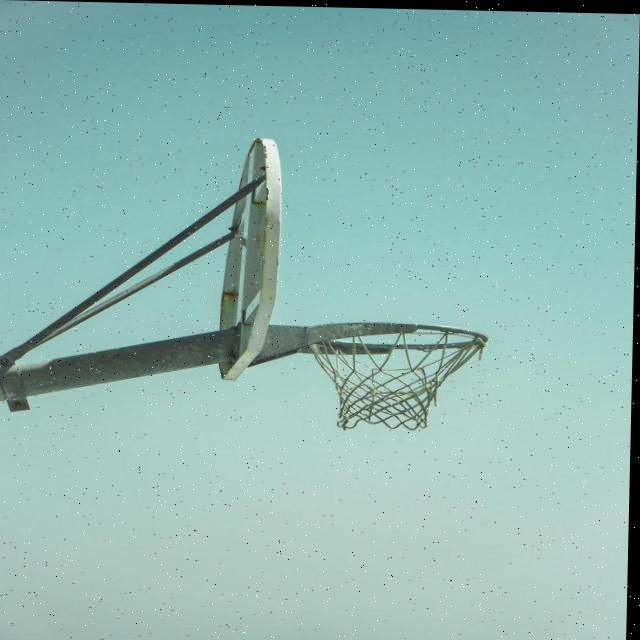hoop: (288, 311, 545, 473)
